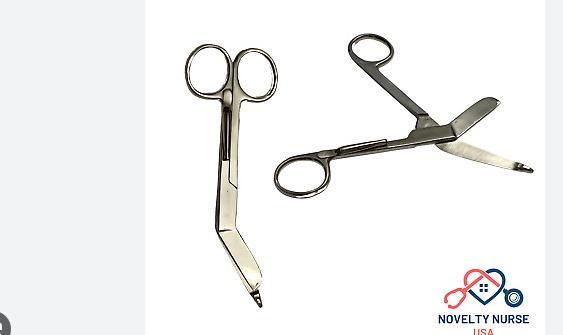Bandage Sciccors: (270, 26, 539, 215), (182, 36, 275, 310)
